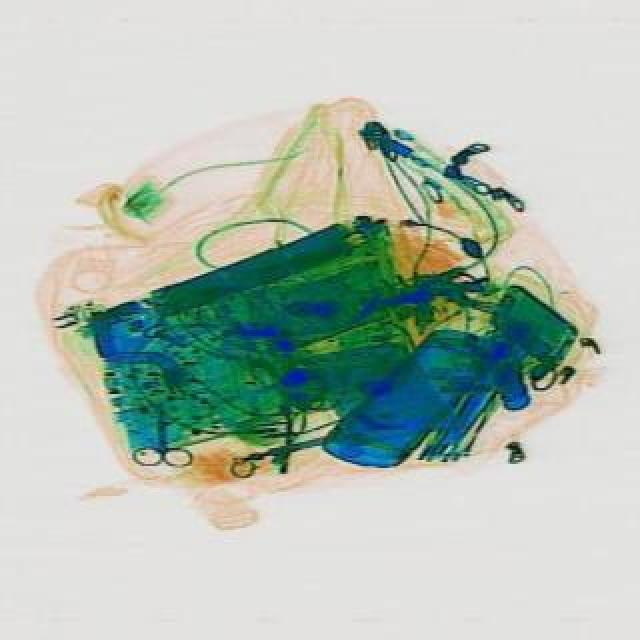pliers: (124, 398, 190, 468)
